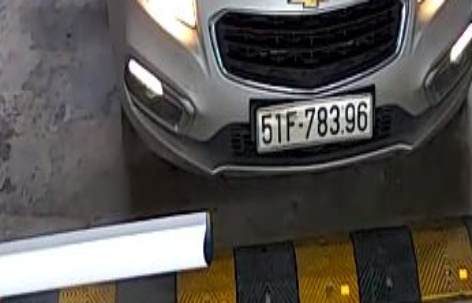plate: (258, 94, 374, 159)
